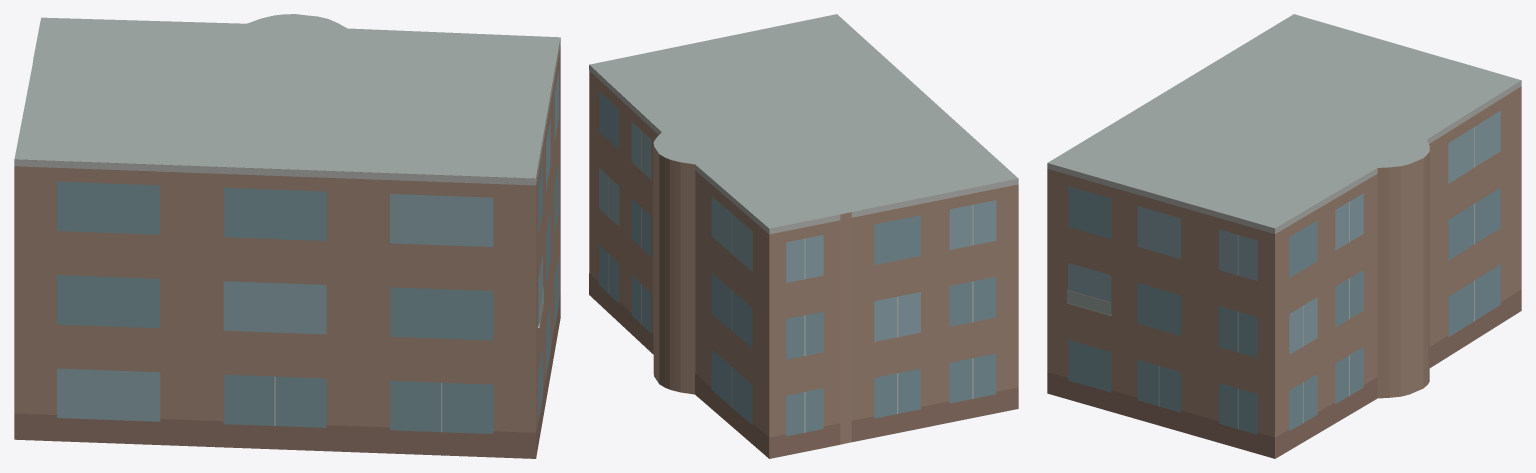
Rendered from survey-upis-32994635.glb.
The picture shows the model from 3 angles, left to right: view 1: azimuth 30°, elevation 25°; view 2: azimuth 150°, elevation 25°; view 3: azimuth 270°, elevation 25°; orthographic projection. The views are drawn at different scales.
Parts seen in each view (by area): view 1: survey-upis-32994635.tmp; view 2: survey-upis-32994635.tmp; view 3: survey-upis-32994635.tmp.
Boxes of the visible parts, left/top/right/bottom form: survey-upis-32994635.tmp: left=14, top=14, right=560, bottom=458; survey-upis-32994635.tmp: left=589, top=14, right=1018, bottom=458; survey-upis-32994635.tmp: left=1047, top=14, right=1521, bottom=458.
Bounding box in the file's own units: 19.57 × 9.8 × 18.29.
